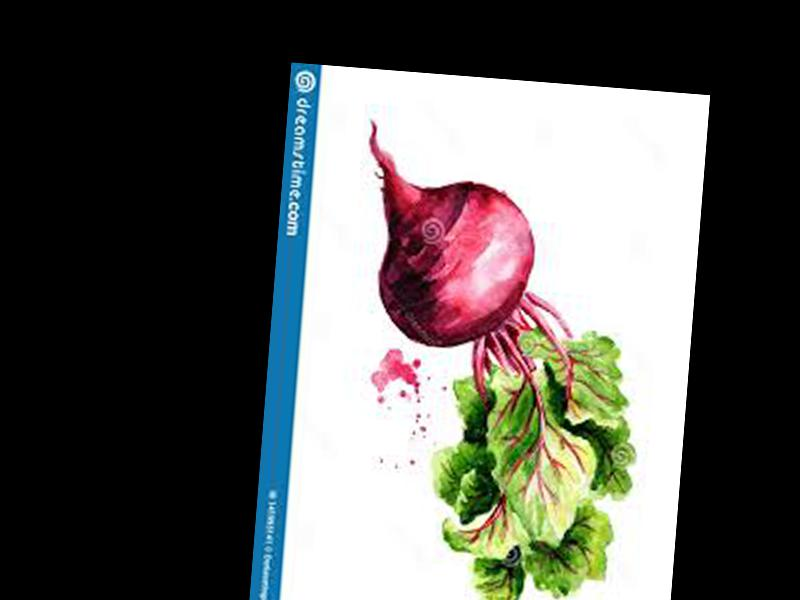Beet: (332, 123, 660, 600)
